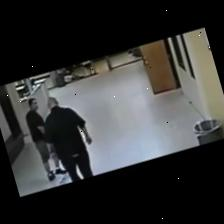person: (45, 97, 93, 181), (26, 98, 66, 180)
